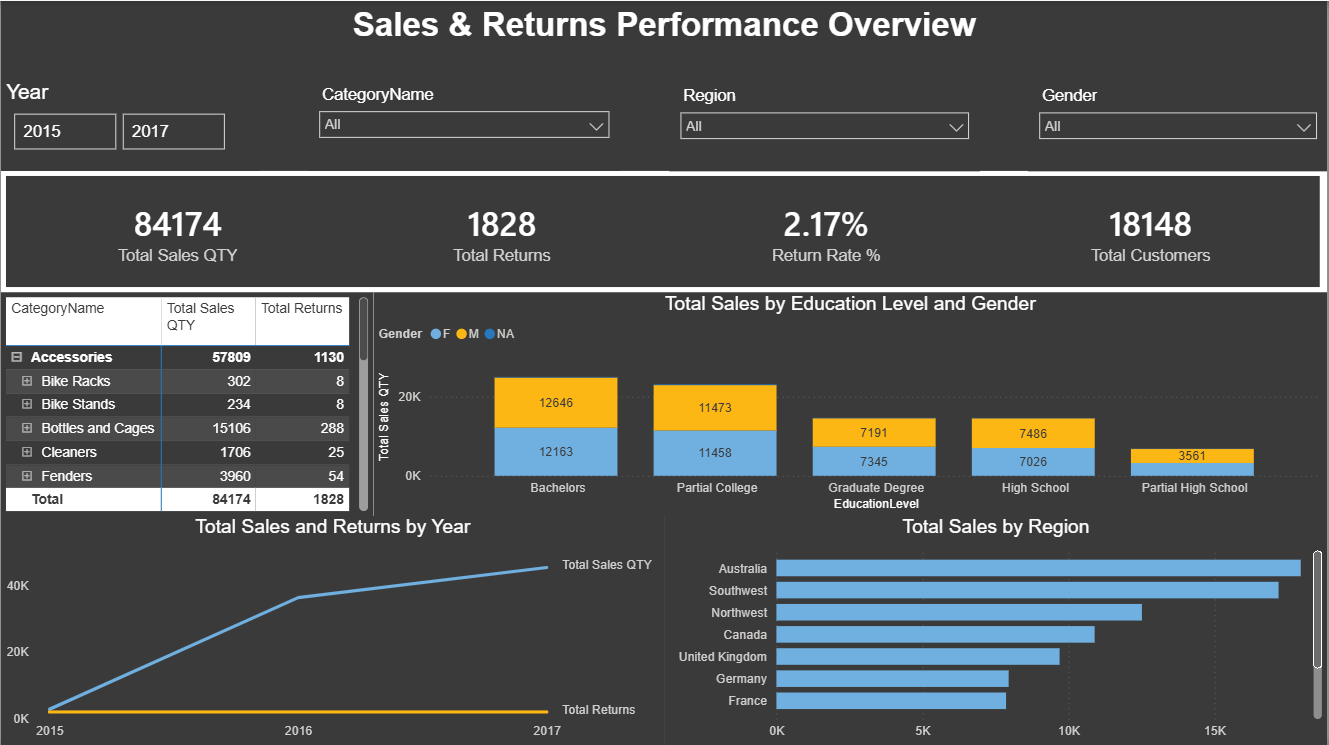

Layout of this report page (visuals, bound fields, positions):
{"tool":"powerbi","page":{"name":"Sales and Returns","canvas":[1280,720],"ordinal":0},"visuals":[{"type":"cardVisual","fields":{"Data":["Sales.Total Sales Quantity","Returns.Total Returns","Returns.Return Rate %","Customers.Total Customers"]},"box":[0,164.1,1280,117],"z":0},{"type":"pivotTable","fields":{"Rows":["Product-Category.CategoryName","Product-Sub-Category.SubcategoryName","Products.ProductName"],"Values":["Sales.Total Sales Quantity","Returns.Total Returns"]},"box":[0,281.1,359.5,216],"z":1000},{"type":"clusteredBarChart","title":"Total Sales by Region","fields":{"Category":["Territories.Region"],"Y":["Sales.Total Sales QTY"]},"box":[640.6,497.1,639.4,223.2],"z":2000},{"type":"lineChart","title":"Total Sales and Returns by Year","fields":{"Y":["Sales.Total Sales QTY","Returns.Total Returns"],"Category":["Calendar.Year"]},"box":[0,497.1,640.6,223.2],"z":3000},{"type":"textbox","box":[0,0,1280,164.1],"z":3500},{"type":"columnChart","title":"Total Sales by Education Level and Gender","fields":{"Category":["Customers.EducationLevel"],"Y":["Sales.Total Sales QTY"],"Series":["Customers.Gender"]},"box":[359.5,281.1,920.5,216],"z":4000},{"type":"slicer","title":"Year","fields":{"Values":["Calendar.Year"]},"box":[0,76,249.7,88.1],"z":5000},{"type":"slicer","fields":{"Values":["Product-Category.CategoryName"]},"box":[297.2,76,300.4,88.1],"z":6000},{"type":"slicer","fields":{"Values":["Territories.Region"]},"box":[645,77.2,299.2,86.9],"z":7000},{"type":"slicer","fields":{"Values":["Customers.Gender"]},"box":[991.7,77.2,288.3,86.9],"z":9000}]}

Visuals, with their boxes in screenshot pixels (x1, y1, x2, y2), scaled from the page's 1280x720 canvas onto the 1329x745 screenshot:
cardVisual - Sales.Total Sales Quantity x Returns.Total Returns: select_region(0, 170, 1328, 291)
pivotTable - Product-Category.CategoryName x Product-Sub-Category.SubcategoryName: select_region(0, 291, 373, 514)
"Total Sales by Region" clusteredBarChart: select_region(665, 514, 1328, 744)
"Total Sales and Returns by Year" lineChart: select_region(0, 514, 665, 744)
textbox: select_region(0, 0, 1328, 170)
"Total Sales by Education Level and Gender" columnChart: select_region(373, 291, 1328, 514)
"Year" slicer: select_region(0, 79, 259, 170)
slicer - Product-Category.CategoryName: select_region(309, 79, 620, 170)
slicer - Territories.Region: select_region(670, 80, 980, 170)
slicer - Customers.Gender: select_region(1030, 80, 1328, 170)
